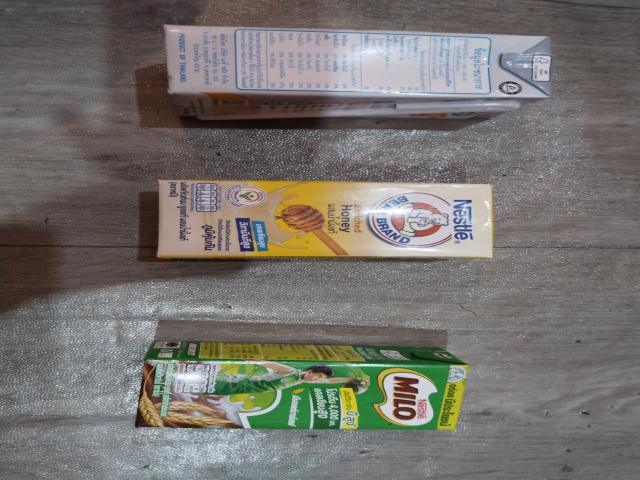drink_box: (149, 23, 565, 127), (124, 336, 470, 438), (149, 174, 500, 266)
